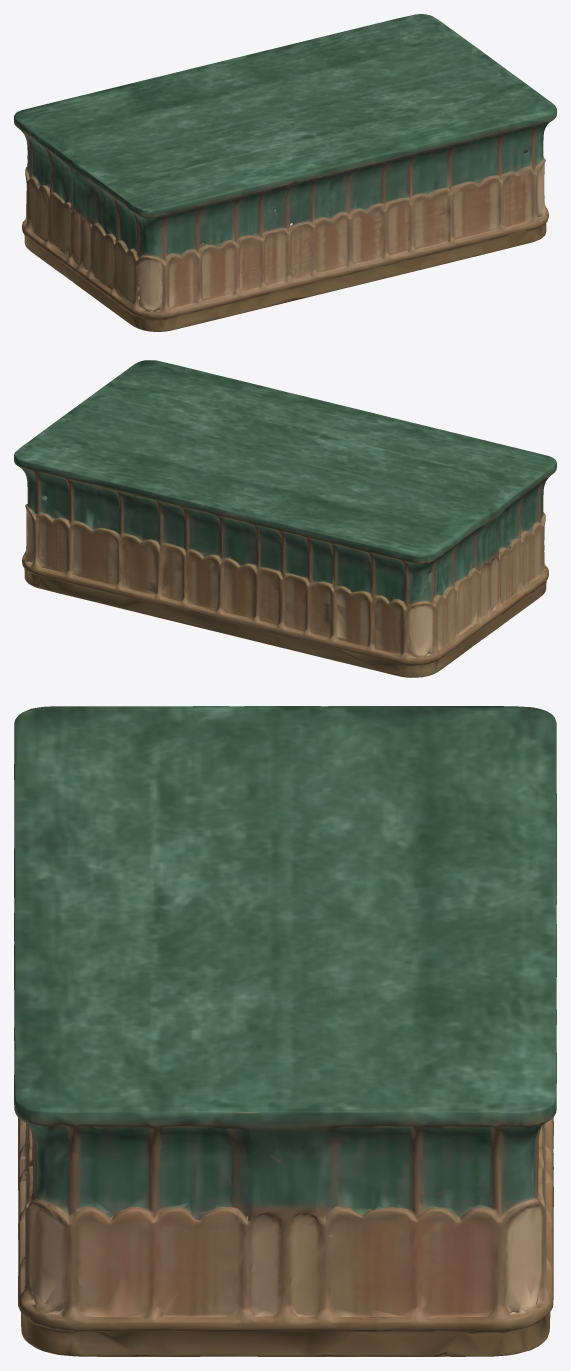
The model's file is green-marble-bar.glb.
3 views of the same model, one above another, from view 1: azimuth 30°, elevation 25°; view 2: azimuth 150°, elevation 25°; view 3: azimuth 270°, elevation 25° (orthographic). The views are drawn at different scales.
Visible parts, largest first — view 1: world; view 2: world; view 3: world.
Part boxes in pixels (x1=…): world: x1=14, y1=14, x2=556, y2=331; world: x1=14, y1=360, x2=556, y2=677; world: x1=14, y1=706, x2=556, y2=1356.
Size of the model in its own units: 1 by 0.2878 by 0.5663.
1 material, 1 textured.
